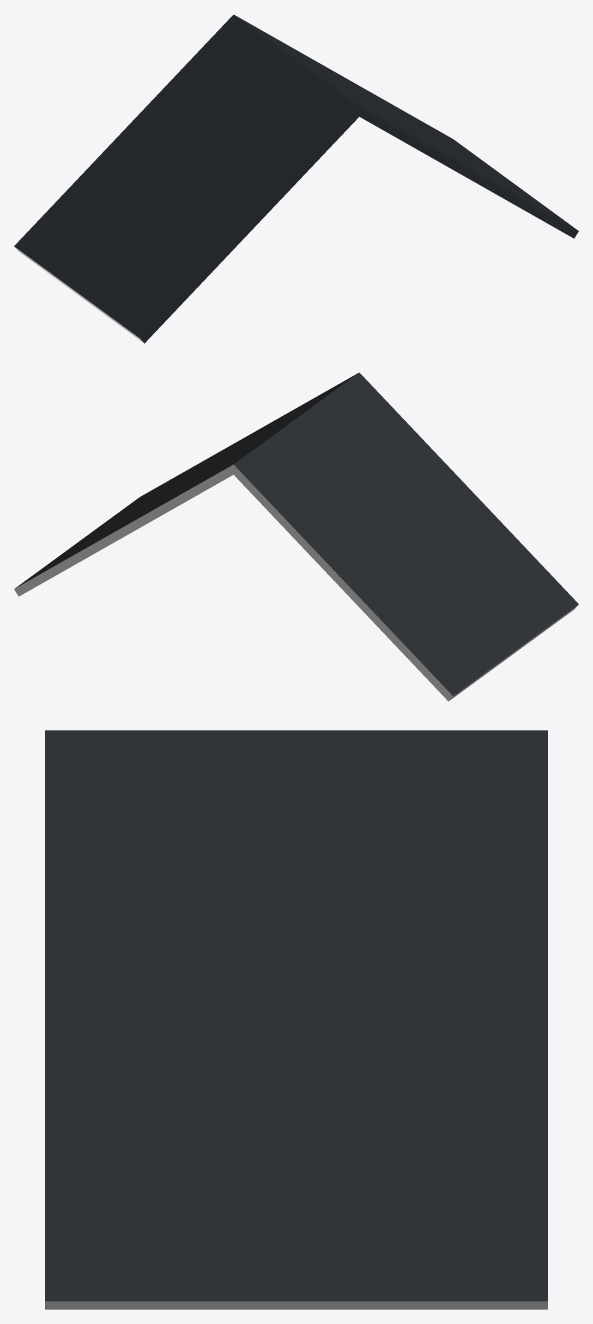
The model's file is Roof1_C1_03.fbx.
3 views of the same model, one above another, from view 1: azimuth 30°, elevation 25°; view 2: azimuth 150°, elevation 25°; view 3: azimuth 270°, elevation 25° (orthographic). The views are drawn at different scales.
Visible parts, largest first — view 1: Roof1_C1_03; view 2: Roof1_C1_03; view 3: Roof1_C1_03.
Boxes of the visible parts, x1=… form: Roof1_C1_03: x1=14, y1=14, x2=578, y2=343; Roof1_C1_03: x1=14, y1=372, x2=578, y2=701; Roof1_C1_03: x1=45, y1=730, x2=547, y2=1309.
Size of the model in its own units: 565 by 227 by 280.
